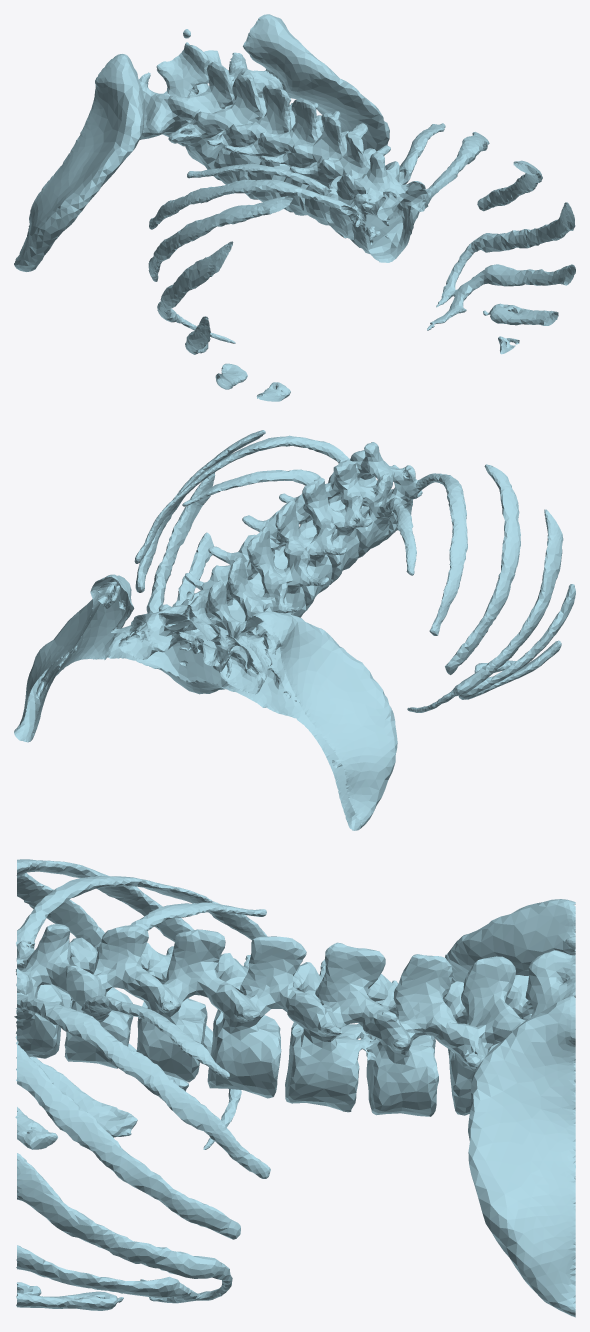
Rendered from bone.obj.
3 views of the same model, one above another, from view 1: azimuth 30°, elevation 25°; view 2: azimuth 150°, elevation 25°; view 3: azimuth 270°, elevation 25° (orthographic). The views are drawn at different scales.
Parts seen in each view (by area): view 1: grp1; view 2: grp1; view 3: grp1.
Part boxes in pixels (left/top/right/bottom): grp1: left=14, top=14, right=575, bottom=401; grp1: left=14, top=430, right=575, bottom=830; grp1: left=14, top=859, right=575, bottom=1317.
Size of the model in its own units: 281 by 155 by 260.
